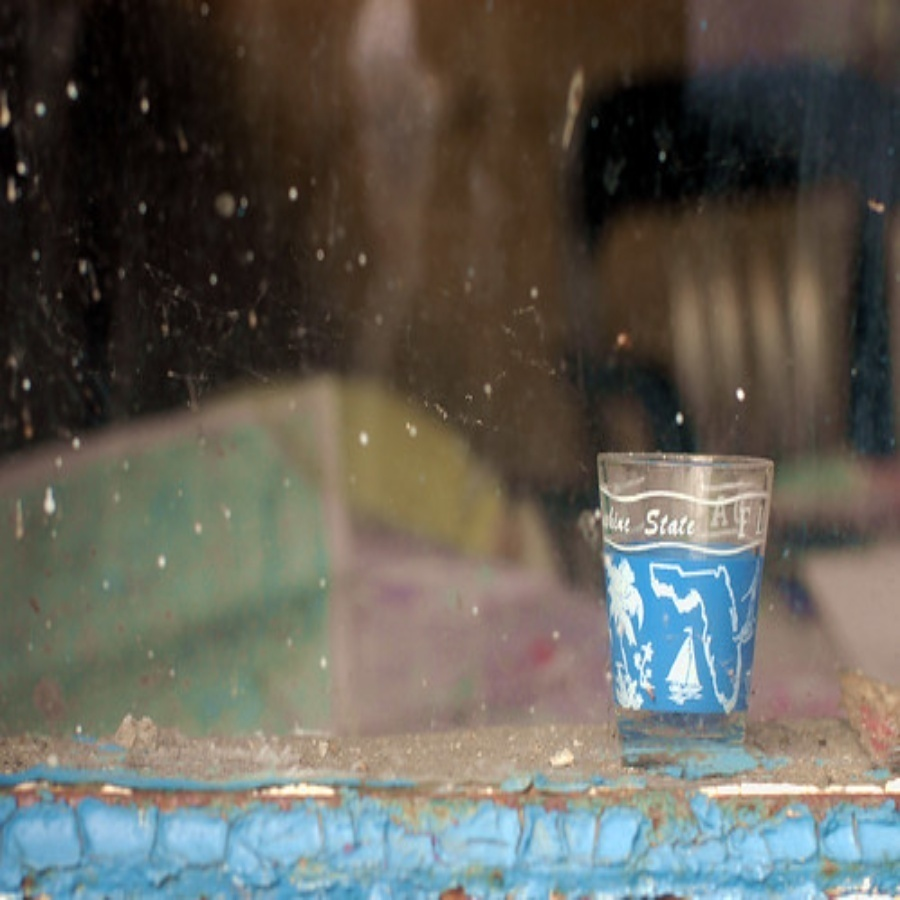whiskey: (600, 452, 771, 731)
